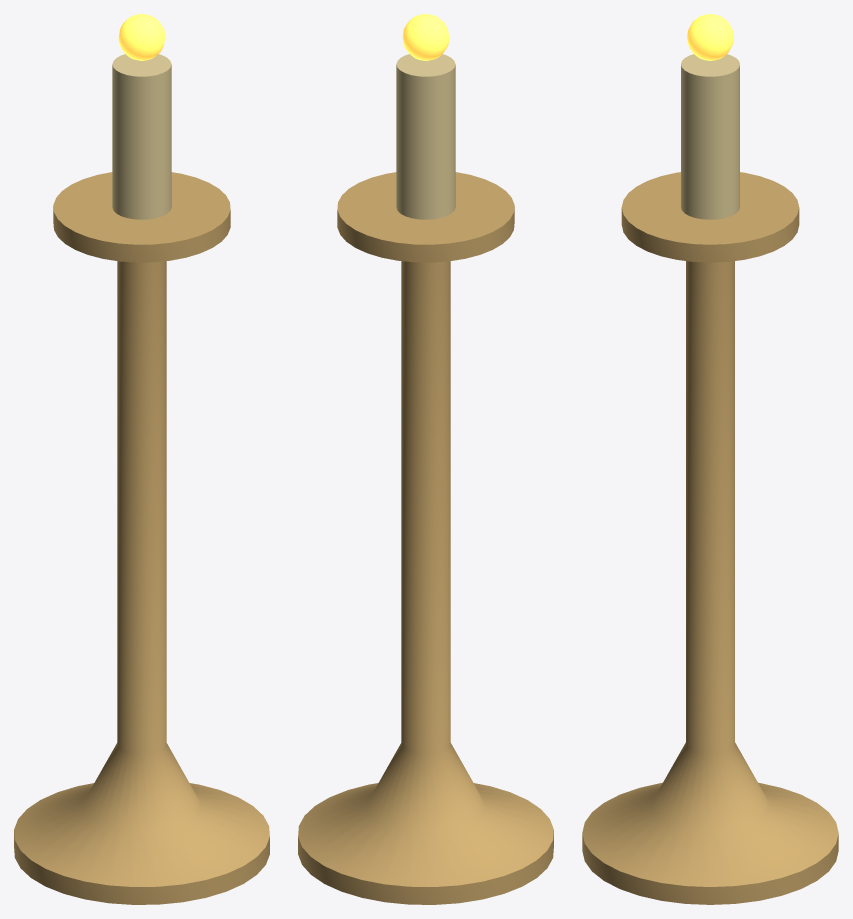
The model's file is adventurers-tavern-and-guild-hall-candle-stand-01c92400__24732.glb.
The picture shows the model from 3 angles, left to right: view 1: azimuth 30°, elevation 25°; view 2: azimuth 150°, elevation 25°; view 3: azimuth 270°, elevation 25°; orthographic projection.
Visible parts, largest first — view 1: candle-stand; view 2: candle-stand; view 3: candle-stand.
Part boxes in pixels (x1,y1,x2,y2): candle-stand: (14,14,269,904); candle-stand: (298,14,553,904); candle-stand: (582,14,838,904).
Bounding box in the file's own units: 0.26 × 0.934 × 0.26.
